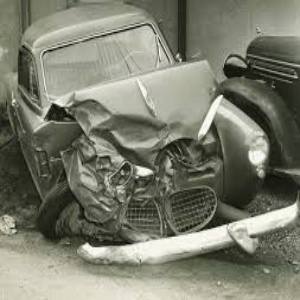bonnet: (74, 71, 219, 145)
bumper: (69, 157, 221, 232)
